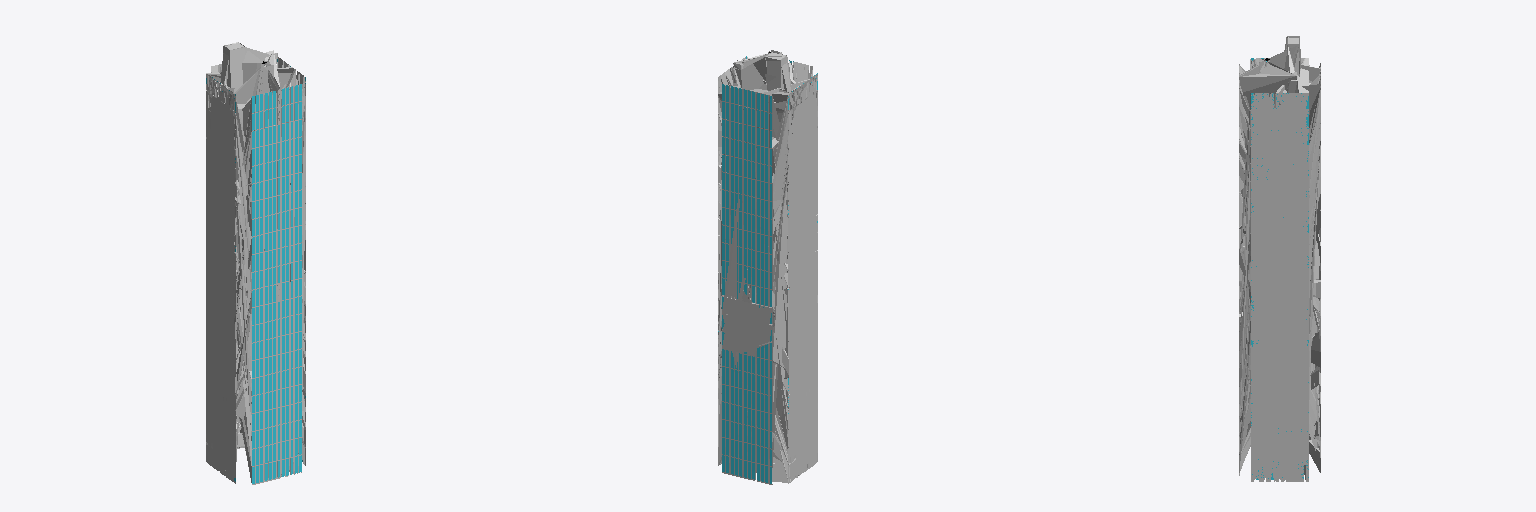
File: Skyscraper.obj
3 renders of one model, left to right at view 1: azimuth 30°, elevation 25°; view 2: azimuth 150°, elevation 25°; view 3: azimuth 270°, elevation 25°, orthographic.
Parts seen in each view (by area): view 1: Box20207, Object002; view 2: Box20207, Object002; view 3: Box20207.
Part boxes in pixels (x1,y1,x2,y2): Box20207: (206, 42, 305, 484); Object002: (206, 59, 305, 483); Box20207: (718, 50, 817, 484); Object002: (718, 56, 817, 483); Box20207: (1239, 36, 1320, 481).
Bounding box in the file's own units: 147 × 822 × 147.